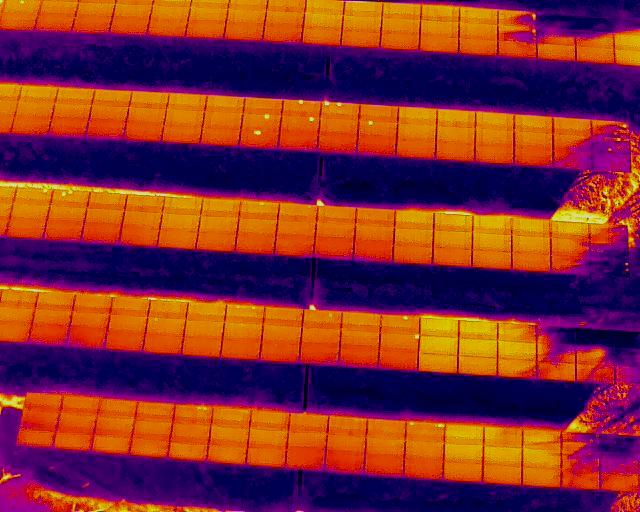Cell: (146, 317, 185, 336), (238, 199, 278, 217), (239, 130, 279, 148), (304, 310, 341, 329), (498, 9, 537, 27), (380, 333, 419, 351), (241, 114, 282, 130), (359, 120, 397, 137), (381, 316, 419, 333), (280, 101, 320, 117), (279, 116, 319, 131), (13, 189, 51, 204), (499, 28, 537, 43), (4, 0, 39, 15)
Cell-Multi: (405, 421, 444, 443), (226, 305, 264, 324), (174, 406, 211, 424), (590, 261, 630, 277), (591, 137, 630, 153), (321, 102, 359, 118), (591, 122, 629, 138), (50, 191, 91, 204)
No-Anomaly: (523, 428, 561, 451), (365, 455, 405, 476), (286, 449, 325, 470), (483, 465, 522, 485), (183, 337, 222, 357), (339, 349, 378, 369), (57, 415, 96, 435), (45, 220, 86, 239), (156, 230, 199, 248), (523, 468, 561, 488), (484, 447, 522, 467), (211, 426, 249, 446), (67, 328, 105, 348), (378, 352, 418, 371), (212, 407, 250, 427), (249, 411, 289, 430), (289, 414, 329, 433), (367, 419, 405, 439), (133, 420, 171, 440), (80, 223, 122, 241), (326, 454, 365, 473), (405, 460, 444, 479), (246, 448, 285, 467), (249, 430, 288, 449), (484, 428, 523, 447), (171, 424, 210, 443), (264, 307, 303, 326), (223, 322, 262, 341), (301, 347, 340, 366), (419, 354, 458, 373), (328, 417, 367, 436), (20, 411, 57, 431), (207, 447, 248, 465), (278, 132, 319, 150), (445, 425, 483, 444), (342, 312, 380, 331), (421, 336, 459, 355), (222, 340, 260, 359), (61, 396, 99, 415), (136, 401, 174, 420), (187, 303, 225, 322), (197, 231, 237, 249), (260, 344, 300, 362), (395, 210, 434, 228), (405, 442, 444, 460), (433, 247, 472, 265), (119, 227, 158, 245), (236, 234, 275, 252), (511, 218, 550, 236), (459, 322, 498, 340), (302, 329, 341, 347), (341, 331, 380, 349), (459, 338, 498, 356), (497, 341, 536, 359), (475, 144, 514, 162), (396, 141, 435, 159), (354, 241, 395, 258), (4, 220, 45, 237), (513, 118, 554, 135), (316, 135, 357, 152), (278, 204, 316, 222), (111, 298, 149, 316), (131, 439, 169, 457), (445, 462, 483, 480), (552, 223, 590, 241), (523, 450, 561, 468), (109, 315, 147, 333), (263, 326, 301, 344), (30, 327, 68, 345), (143, 336, 181, 354), (458, 357, 496, 375), (275, 237, 315, 254), (512, 256, 552, 273), (357, 138, 397, 155), (74, 295, 111, 313), (201, 199, 238, 217), (107, 333, 144, 351), (99, 398, 136, 416), (95, 417, 132, 435), (26, 393, 61, 412), (288, 431, 327, 448), (512, 237, 551, 254), (394, 228, 433, 245), (327, 437, 366, 454), (91, 436, 130, 453), (47, 119, 86, 136), (159, 214, 200, 230), (85, 123, 126, 139), (445, 444, 483, 461), (17, 430, 55, 447), (421, 21, 459, 38), (33, 310, 71, 327), (420, 318, 458, 335), (460, 8, 498, 25), (162, 198, 202, 214), (9, 204, 49, 220), (316, 207, 356, 223), (121, 211, 161, 227), (316, 223, 356, 239), (365, 439, 405, 455), (128, 92, 168, 108), (204, 97, 244, 113), (164, 110, 204, 126), (202, 113, 242, 129), (124, 125, 164, 141), (394, 246, 433, 262), (473, 235, 512, 251), (304, 14, 343, 30), (315, 239, 354, 255), (473, 218, 512, 234), (169, 444, 208, 460), (473, 252, 512, 268), (163, 127, 202, 143), (243, 98, 282, 114), (382, 3, 421, 19), (14, 102, 53, 118), (89, 106, 128, 122), (437, 111, 476, 127), (318, 119, 357, 135), (397, 123, 436, 139), (498, 324, 537, 340), (84, 208, 125, 223), (276, 222, 317, 237), (199, 129, 240, 144), (37, 293, 73, 310), (72, 312, 108, 329), (186, 322, 222, 339), (54, 434, 92, 450), (342, 17, 380, 33), (435, 230, 473, 246), (498, 43, 536, 59), (38, 1, 76, 17), (475, 114, 513, 130), (514, 134, 552, 150), (460, 25, 498, 41), (355, 210, 395, 225), (236, 218, 276, 233), (18, 86, 58, 101), (397, 108, 437, 123), (12, 118, 52, 133), (381, 34, 418, 50), (55, 89, 94, 104), (126, 108, 165, 123), (514, 151, 553, 166), (342, 33, 381, 48), (436, 144, 475, 159), (436, 128, 475, 143), (475, 129, 514, 144), (125, 195, 163, 210), (35, 18, 73, 33), (434, 215, 472, 230), (421, 37, 459, 52), (149, 301, 187, 316), (110, 20, 148, 35), (167, 95, 205, 110), (53, 104, 91, 119), (199, 217, 239, 231), (354, 226, 394, 240), (224, 26, 264, 40), (91, 91, 128, 106), (75, 3, 112, 18), (554, 120, 591, 135), (264, 27, 301, 42), (459, 40, 498, 54), (304, 0, 343, 14), (359, 105, 398, 119), (113, 6, 152, 20), (227, 11, 266, 25), (265, 13, 303, 27), (87, 195, 125, 209), (48, 205, 86, 219), (382, 19, 420, 33), (187, 24, 225, 38), (149, 22, 187, 36), (576, 48, 614, 62), (537, 45, 575, 59), (344, 1, 382, 15), (303, 30, 341, 44), (1, 15, 36, 30), (72, 19, 109, 33), (188, 10, 227, 23), (151, 9, 189, 22), (268, 0, 305, 13), (422, 7, 459, 20)
Shadowing: (551, 238, 590, 259), (599, 453, 638, 473), (537, 362, 576, 382), (562, 469, 600, 489), (590, 242, 629, 261), (599, 435, 639, 453), (497, 360, 537, 378), (552, 256, 590, 274), (561, 432, 598, 450), (561, 451, 598, 469), (553, 135, 592, 152), (576, 330, 614, 347), (576, 346, 613, 363), (600, 474, 639, 490), (536, 345, 575, 361), (590, 225, 628, 241), (537, 13, 575, 29), (576, 365, 614, 381), (576, 32, 614, 48), (593, 155, 630, 171), (536, 328, 575, 343), (553, 153, 592, 168), (576, 16, 614, 31), (538, 30, 576, 45)
